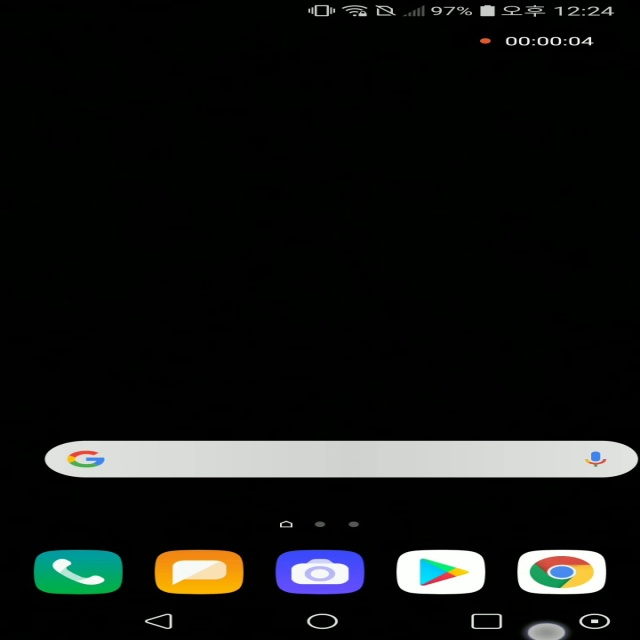Cursor: (525, 618, 569, 640)
